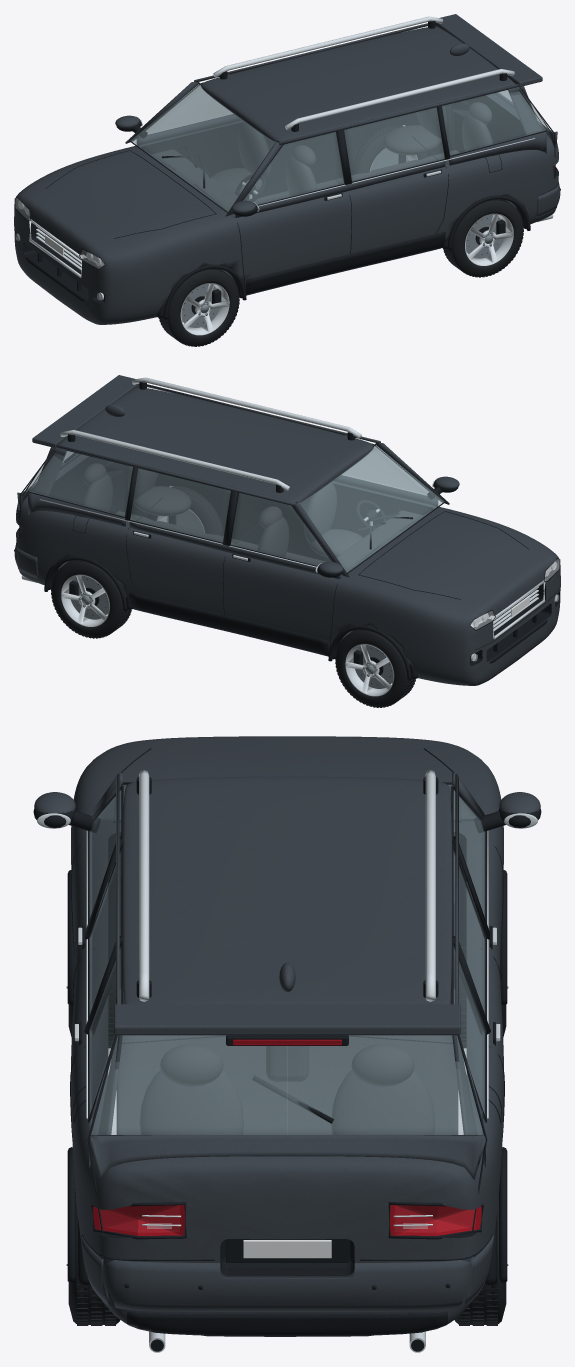
File: suv.glb
The picture shows the model from 3 angles, top to bottom: view 1: azimuth 30°, elevation 25°; view 2: azimuth 150°, elevation 25°; view 3: azimuth 270°, elevation 25°; orthographic projection. The views are drawn at different scales.
Parts seen in each view (by area): view 1: Watertight 14-station body shell, Crowned roof pressing, Raked laminated windshield, Rear side door glass, Rear quarter glass, Front side door glass, Formed lower door protective cladding, 107 reused Sculpted_tyre.002, 107 reused Sculpted_tyre, Roof spoiler lip, Front side door glass.001, Painted door glazing lower sill (+28 smaller); view 2: Watertight 14-station body shell, Crowned roof pressing, Raked laminated windshield, Rear side door glass.001, Rear quarter glass.001, Front side door glass.001, Formed lower door protective cladding.001, 107 reused Sculpted_tyre.003, 107 reused Sculpted_tyre.001, Roof spoiler lip, Front side door glass, Painted door glazing lower sill.001 (+28 smaller); view 3: Watertight 14-station body shell, Crowned roof pressing, Tailgate rear glazing, Formed painted rear bumper cover, Cabin carpet, Roof spoiler lip, Painted rear glazing lower surround, Sculpted rear lower bumper insert, Contoured seat back.002, Contoured seat back.003, Raised satin roof rail, Raised satin roof rail.001 (+32 smaller).
Boxes of the visible parts, left/top/right/bottom form: Watertight 14-station body shell: left=14, top=93, right=558, bottom=324; Crowned roof pressing: left=201, top=26, right=515, bottom=142; Raked laminated windshield: left=130, top=84, right=277, bottom=211; Rear side door glass: left=344, top=107, right=444, bottom=181; Rear quarter glass: left=442, top=90, right=545, bottom=155; Front side door glass: left=243, top=132, right=343, bottom=204; Formed lower door protective cladding: left=245, top=232, right=445, bottom=295; 107 reused Sculpted_tyre.002: left=444, top=199, right=523, bottom=276; 107 reused Sculpted_tyre: left=159, top=269, right=239, bottom=346; Roof spoiler lip: left=435, top=14, right=542, bottom=86; Front side door glass.001: left=146, top=85, right=232, bottom=134; Painted door glazing lower sill: left=235, top=158, right=445, bottom=217; Watertight 14-station body shell: left=16, top=454, right=560, bottom=685; Crowned roof pressing: left=59, top=387, right=373, bottom=503; Raked laminated windshield: left=297, top=445, right=444, bottom=572; Rear side door glass.001: left=130, top=468, right=230, bottom=542; Rear quarter glass.001: left=29, top=451, right=132, bottom=516; Front side door glass.001: left=231, top=493, right=331, bottom=565; Formed lower door protective cladding.001: left=129, top=593, right=329, bottom=656; 107 reused Sculpted_tyre.003: left=51, top=560, right=130, bottom=637; 107 reused Sculpted_tyre.001: left=335, top=629, right=415, bottom=707; Roof spoiler lip: left=32, top=375, right=139, bottom=447; Front side door glass: left=342, top=446, right=428, bottom=495; Painted door glazing lower sill.001: left=129, top=519, right=339, bottom=578; Watertight 14-station body shell: left=71, top=736, right=503, bottom=1335; Crowned roof pressing: left=122, top=776, right=452, bottom=1004; Tailgate rear glazing: left=91, top=1035, right=483, bottom=1134; Formed painted rear bumper cover: left=101, top=1256, right=473, bottom=1311; Cabin carpet: left=116, top=988, right=458, bottom=1134; Roof spoiler lip: left=114, top=1004, right=460, bottom=1035; Painted rear glazing lower surround: left=89, top=1135, right=485, bottom=1179; Sculpted rear lower bumper insert: left=127, top=1312, right=447, bottom=1336; Contoured seat back.002: left=139, top=1070, right=243, bottom=1134; Contoured seat back.003: left=331, top=1070, right=435, bottom=1134; Raised satin roof rail: left=139, top=769, right=149, bottom=1001; Raised satin roof rail.001: left=425, top=769, right=435, bottom=1001.
Bounding box in the file's own units: 4.76 × 1.83 × 2.24.
10 materials, 10 textured.
